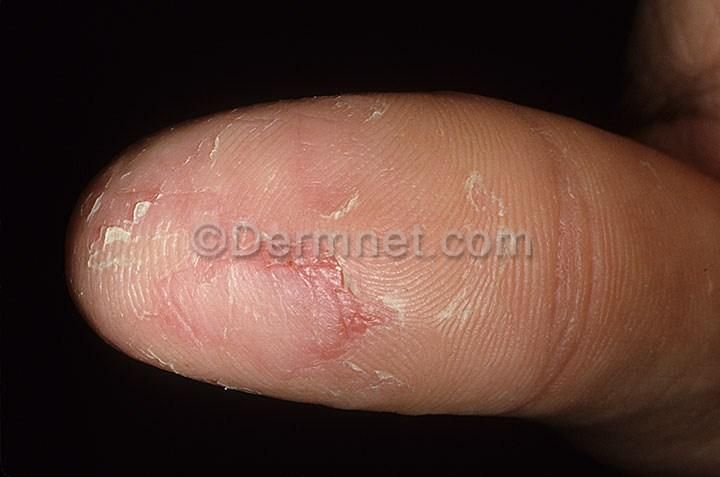Eczema: (202, 258, 520, 407), (239, 97, 566, 230), (79, 182, 180, 330)
